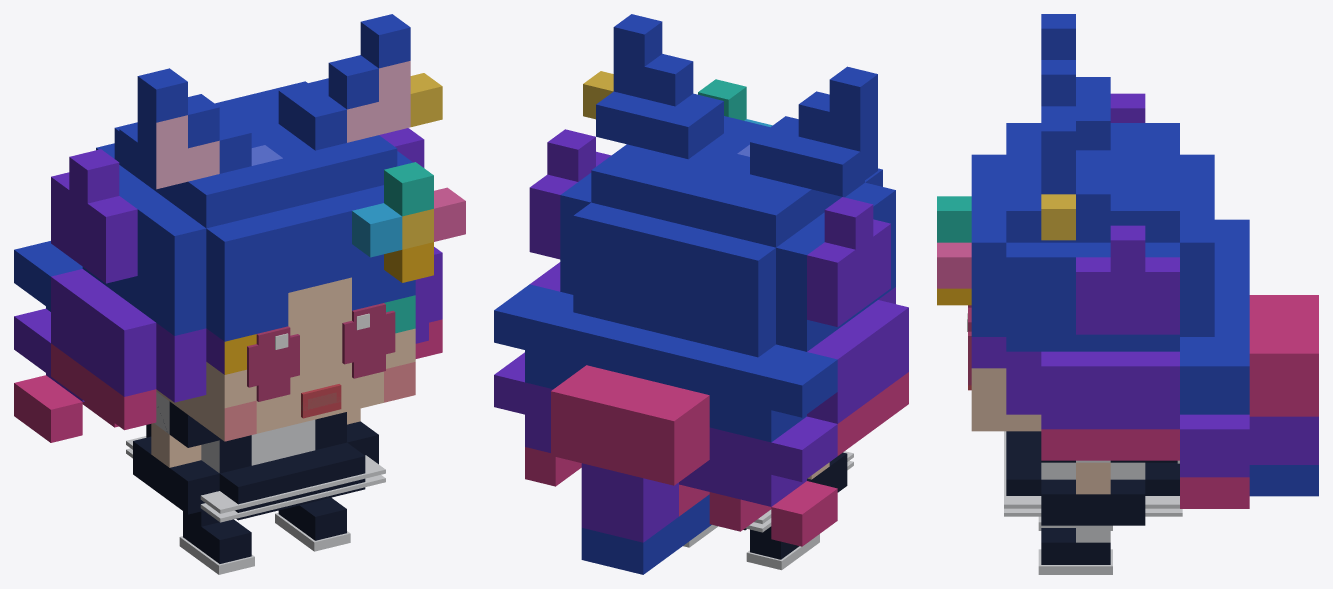
The model's file is gemini_s.glb.
3 views of the same model, side by side, from view 1: azimuth 30°, elevation 25°; view 2: azimuth 150°, elevation 25°; view 3: azimuth 270°, elevation 25° (orthographic). The views are drawn at different scales.
Visible parts, largest first — view 1: head, body, hairback, face_happy, footB, face_open, footA, armB, face_tight; view 2: head, hairback, tail, footB, body; view 3: head, hairback, tail, body, footA, armA.
Boxes of the visible parts, left/top/right/bottom form: head: left=51, top=14, right=465, bottom=441; body: left=126, top=401, right=385, bottom=522; hairback: left=14, top=241, right=118, bottom=442; face_happy: left=247, top=310, right=395, bottom=418; footB: left=179, top=511, right=254, bottom=574; face_open: left=256, top=303, right=385, bottom=409; footA: left=275, top=497, right=350, bottom=551; armB: left=151, top=392, right=201, bottom=467; face_tight: left=247, top=329, right=395, bottom=410; head: left=529, top=14, right=908, bottom=455; hairback: left=494, top=284, right=837, bottom=546; tail: left=551, top=365, right=711, bottom=574; footB: left=746, top=526, right=819, bottom=570; body: left=743, top=451, right=853, bottom=532; head: left=937, top=14, right=1214, bottom=460; hairback: left=1180, top=219, right=1249, bottom=508; tail: left=1249, top=295, right=1318, bottom=496; body: left=1004, top=431, right=1182, bottom=525; footA: left=1038, top=525, right=1112, bottom=574; armA: left=1076, top=460, right=1110, bottom=494.
Size of the model in its own units: 0.7 by 1.05 by 0.77.
